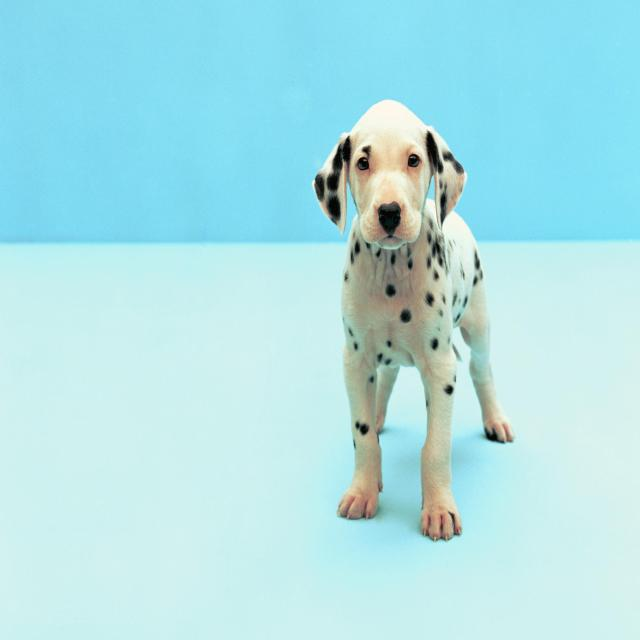Dog: (263, 54, 534, 560)
